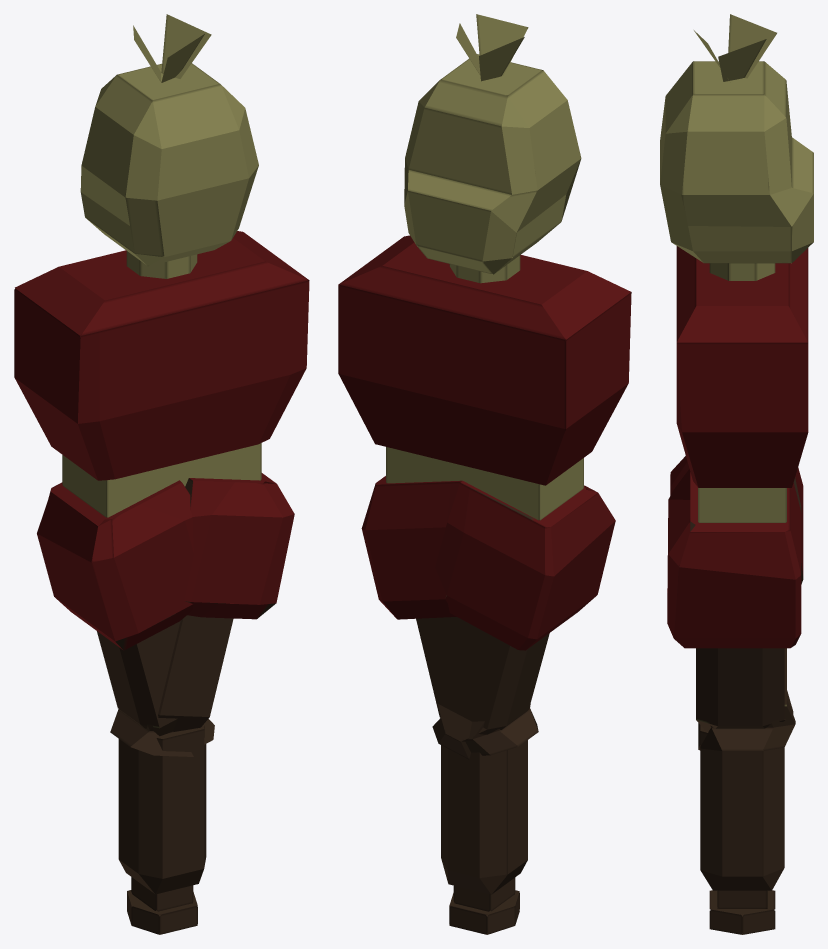
The model's file is scarecrows.obj.
3 views of the same model, side by side, from view 1: azimuth 30°, elevation 25°; view 2: azimuth 150°, elevation 25°; view 3: azimuth 270°, elevation 25° (orthographic).
Visible parts, largest first — view 1: cuboid_selection, head, left_thigh, right_thigh, left_shin, plane, neck; view 2: cuboid_selection, left_thigh, head, left_shin, right_thigh, plane, neck; view 3: cuboid_selection, head, right_thigh, left_shin, left_thigh, plane, neck.
Boxes of the visible parts, x1,y1,x2,y2 form: cuboid_selection: (14, 231, 309, 517); head: (80, 63, 258, 266); left_thigh: (37, 480, 214, 744); right_thigh: (110, 473, 294, 756); left_shin: (118, 725, 206, 934); plane: (133, 14, 211, 82); neck: (126, 251, 197, 278); cuboid_selection: (338, 235, 631, 520); left_thigh: (432, 481, 615, 759); head: (404, 54, 581, 274); left_shin: (441, 740, 527, 934); right_thigh: (361, 476, 538, 755); plane: (456, 14, 528, 81); neck: (449, 255, 520, 283); cuboid_selection: (676, 246, 808, 522); head: (660, 61, 813, 263); right_thigh: (667, 469, 801, 750); left_shin: (700, 725, 784, 934); left_thigh: (670, 456, 803, 750); plane: (694, 14, 776, 81); neck: (709, 263, 775, 280).
Bounding box in the file's own units: 0.75 × 2.79 × 0.4375.
Materials: 1 (1 with a texture image).
